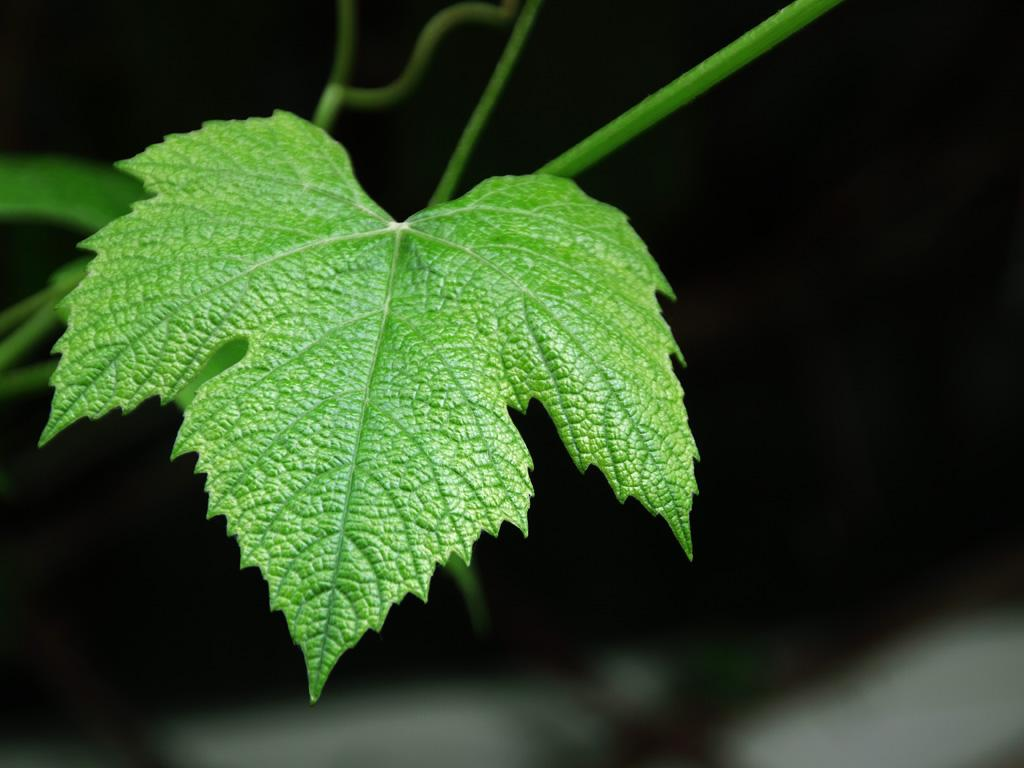grape leaf black rot: (26, 115, 729, 707)
